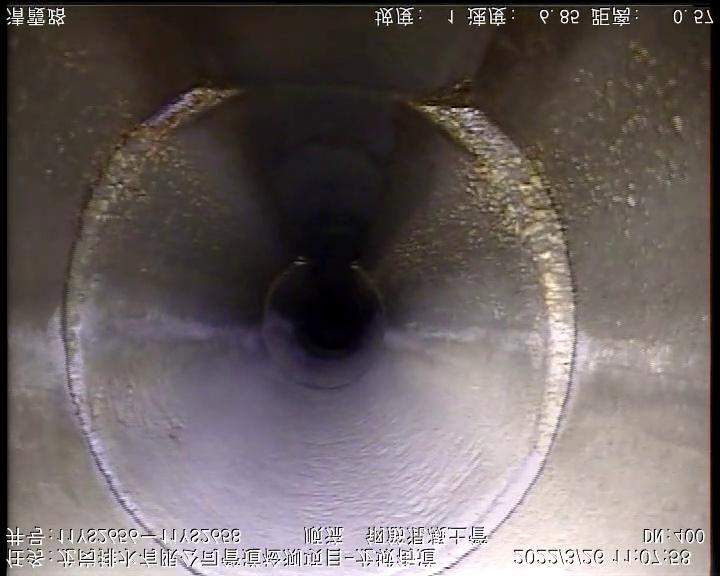CKTJ: (61, 89, 223, 532), (417, 105, 576, 540)
